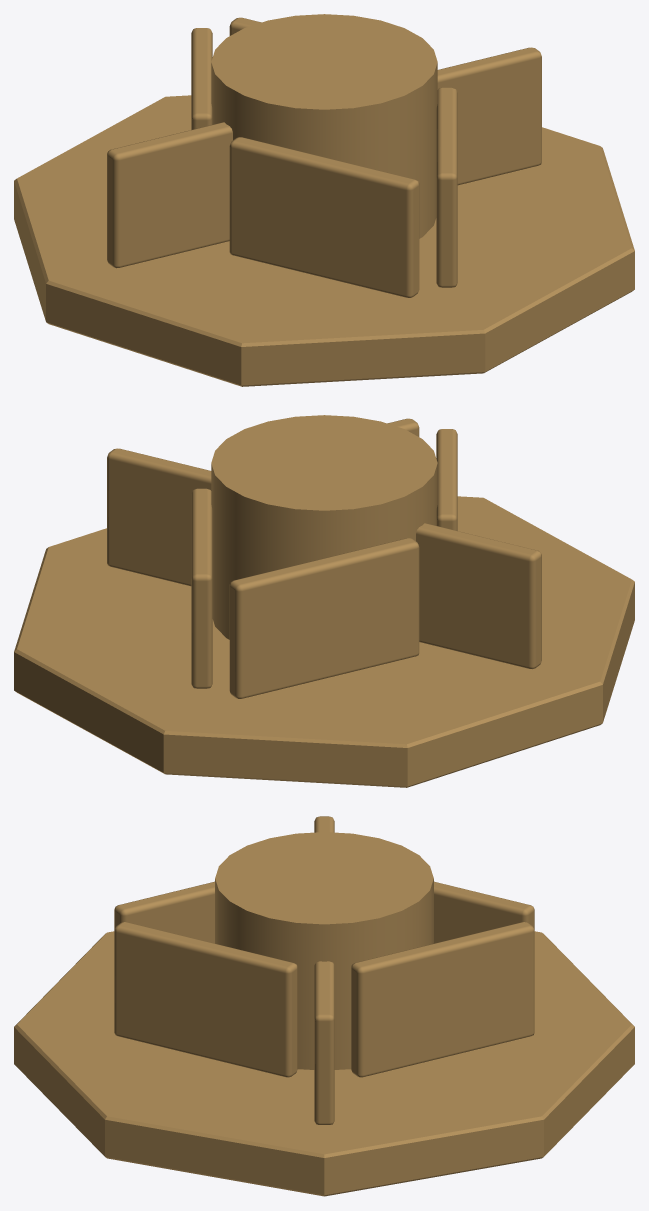
Rendered from impeller.glb.
3 views of the same model, one above another, from view 1: azimuth 30°, elevation 25°; view 2: azimuth 150°, elevation 25°; view 3: azimuth 270°, elevation 25° (orthographic). The views are drawn at different scales.
Visible parts, largest first — view 1: impeller; view 2: impeller; view 3: impeller.
Boxes of the visible parts, x1,y1,x2,y2 form: impeller: (14,14,634,386); impeller: (14,415,634,787); impeller: (14,816,634,1196).
Size of the model in its own units: 0.0909 by 0.0304 by 0.0909.
